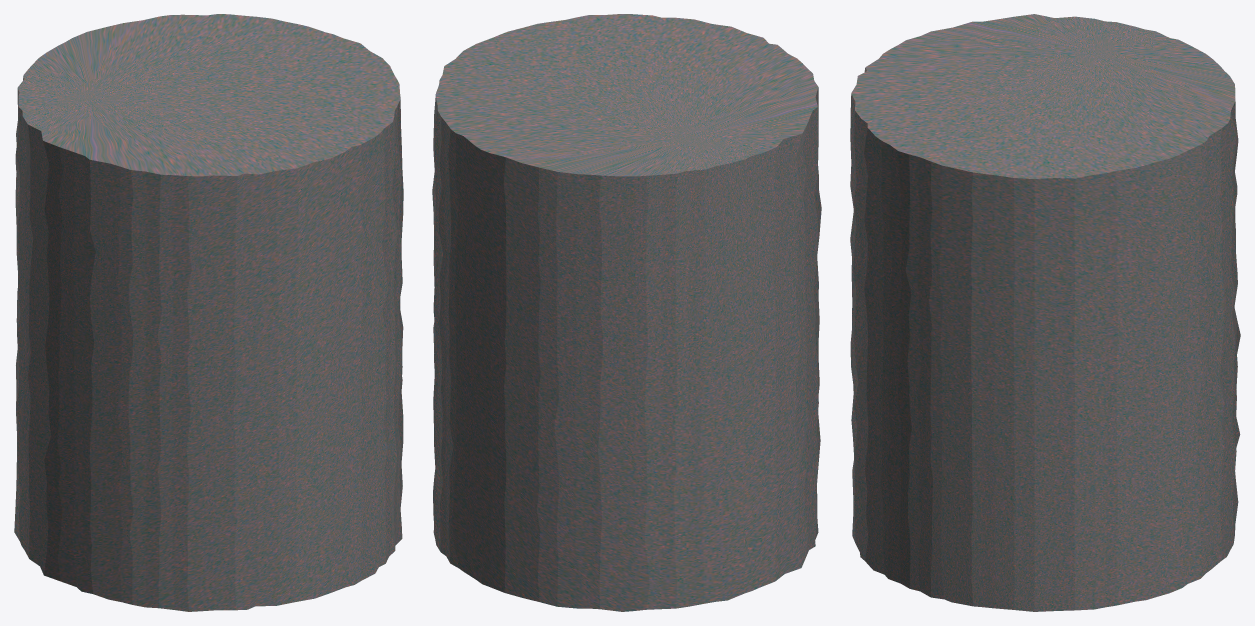
The model's file is barrel_18.dae.
3 views of the same model, side by side, from view 1: azimuth 30°, elevation 25°; view 2: azimuth 150°, elevation 25°; view 3: azimuth 270°, elevation 25° (orthographic).
Parts seen in each view (by area): view 1: Cylinder; view 2: Cylinder; view 3: Cylinder.
Part boxes in pixels (x1,y1,x2,y2): Cylinder: (14,14,403,611); Cylinder: (432,14,821,611); Cylinder: (850,14,1240,611).
Bounding box in the file's own units: 0.8221 × 0.8161 × 1.
1 material, 1 textured.
